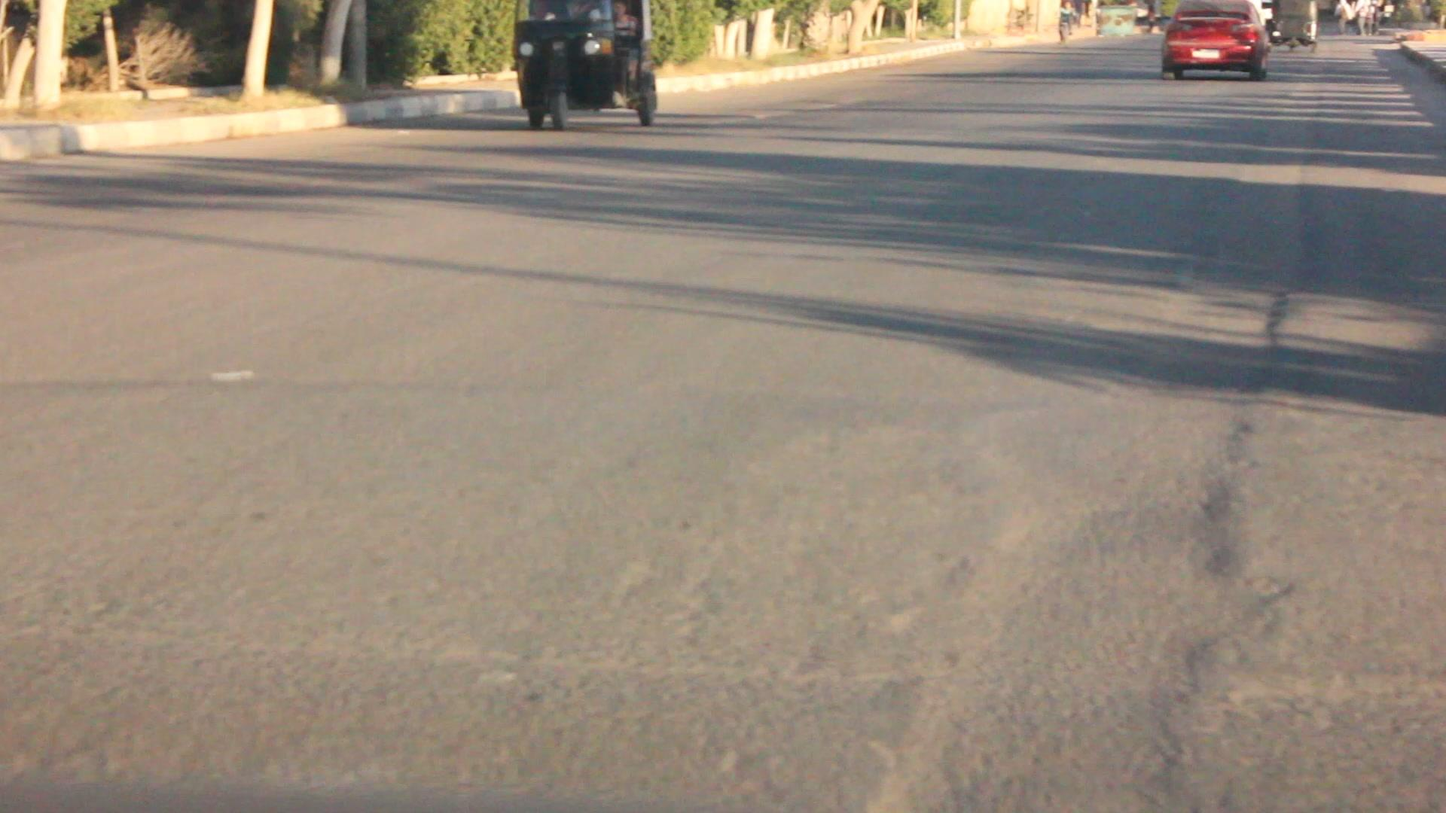Bump: (28, 388, 1446, 694)
Pothole: (906, 551, 1254, 796)
